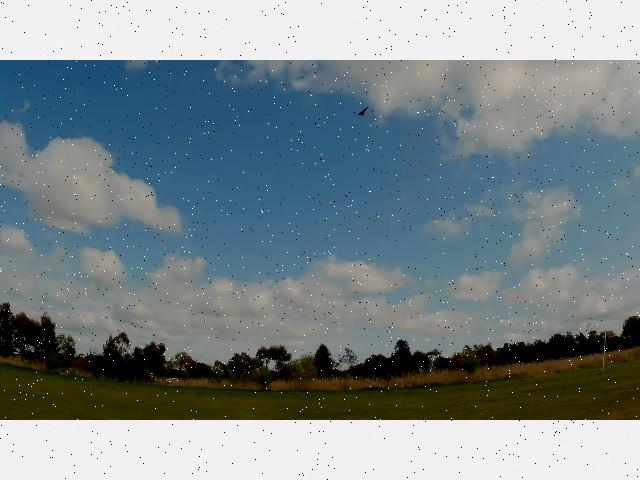Anti-Drone: (344, 100, 380, 121)
